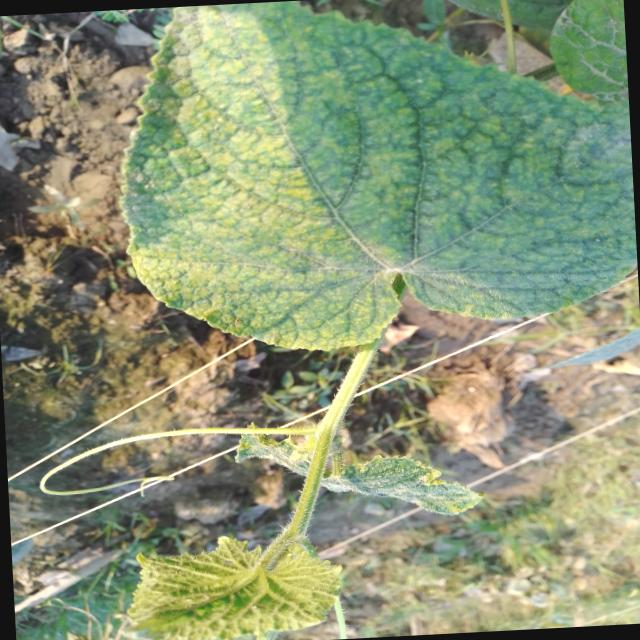cucumber_healthy: (103, 0, 640, 365), (210, 412, 491, 529), (113, 519, 363, 640), (541, 0, 629, 113)
